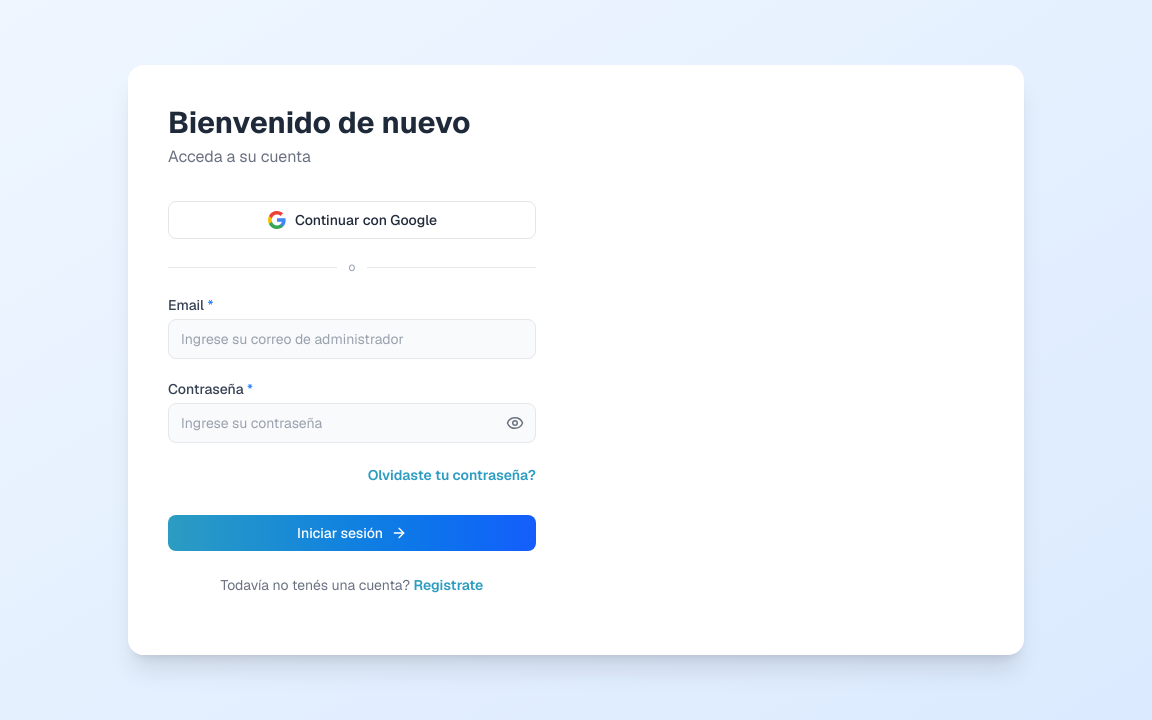
Test: LoginPage › shows credential errors returned by signIn
Type "user@example.com" into the field labelled "Email *".
click(352, 339); type("user@example.com")  # box [168,319,536,359]
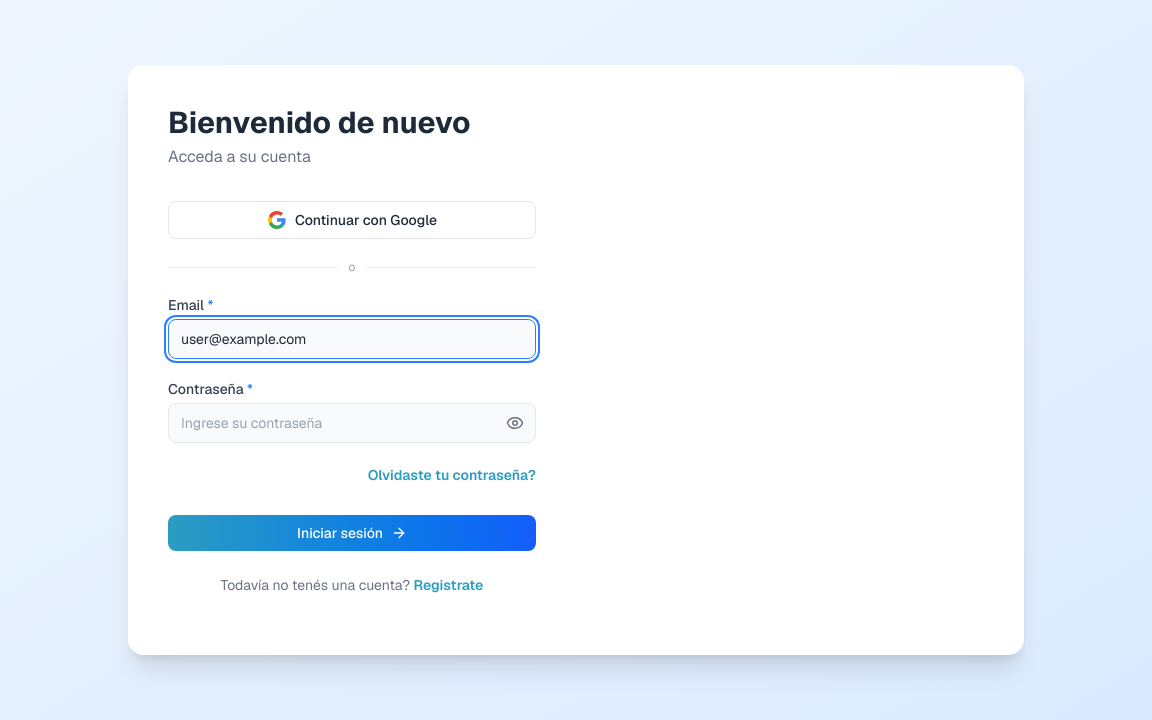
Type "wrong-password" into the password field labelled "Contraseña *".
click(352, 423); type("wrong-password")  # box [168,403,536,443]
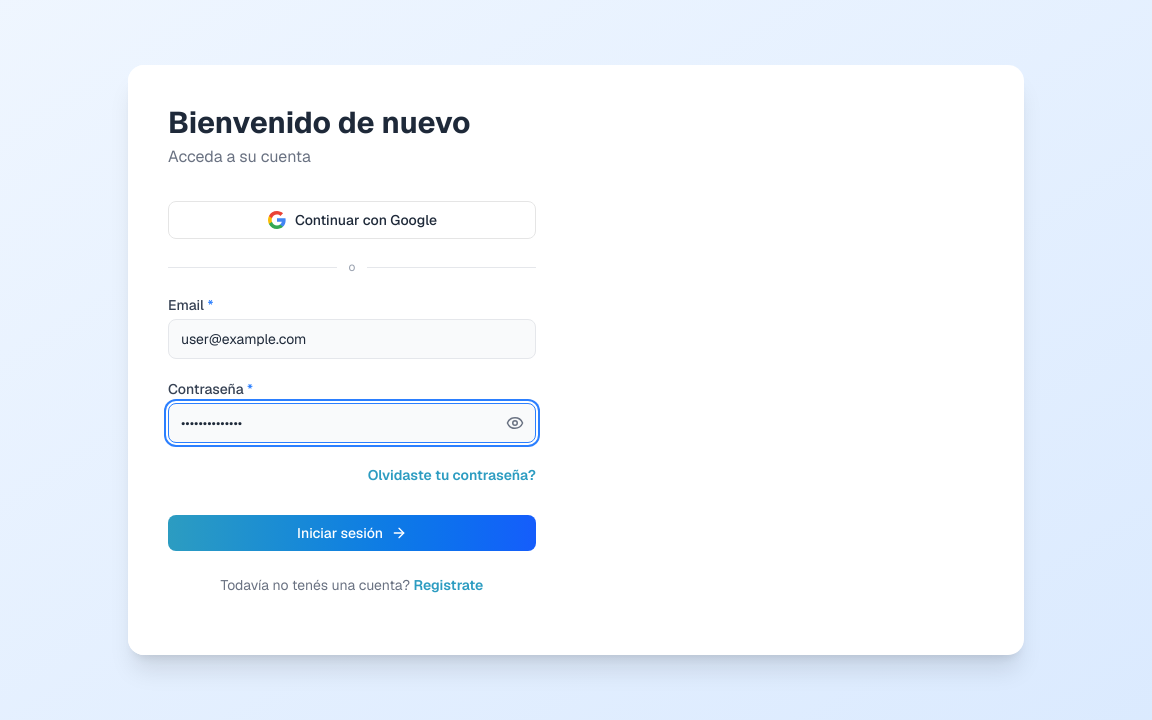
Click the button "Iniciar sesión".
click(352, 533)  # box [168,515,536,551]
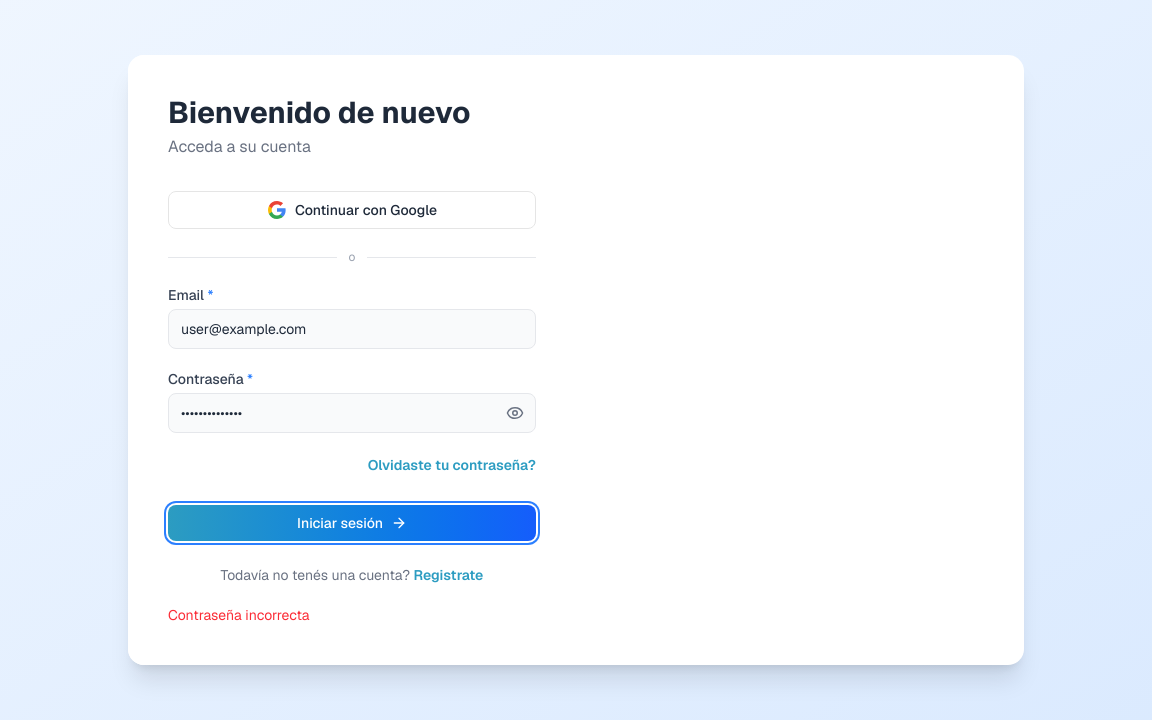
Expected: the text "Contraseña incorrecta" is shown, [168,606,310,624]
